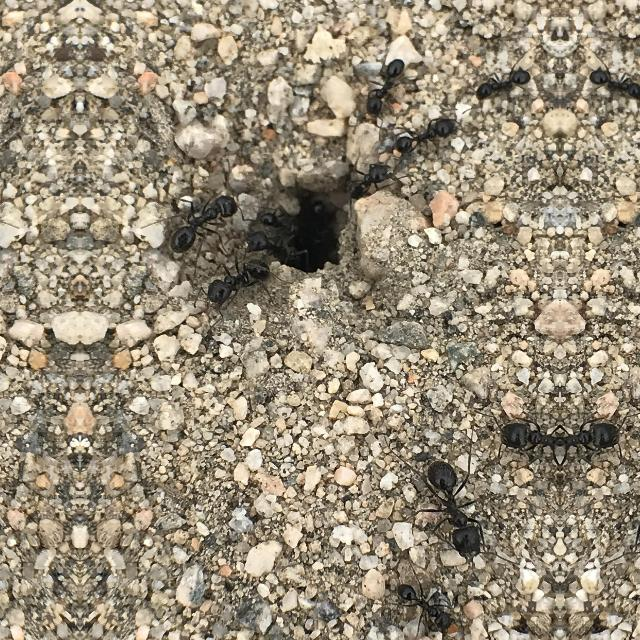Messor: (402, 462, 484, 556), (147, 180, 247, 256), (480, 416, 560, 476), (560, 416, 640, 476), (205, 253, 283, 310), (388, 114, 472, 160), (401, 578, 459, 630), (470, 60, 530, 110), (236, 230, 308, 270), (589, 60, 640, 109), (365, 55, 405, 113), (344, 158, 396, 202), (265, 206, 313, 242)
